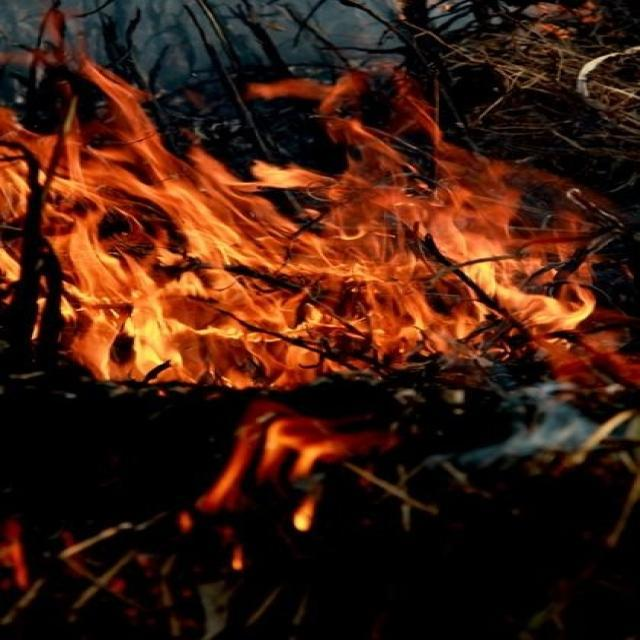Fire: (1, 1, 638, 391), (173, 399, 400, 571), (1, 520, 29, 591)
Smoke: (454, 376, 602, 464)
